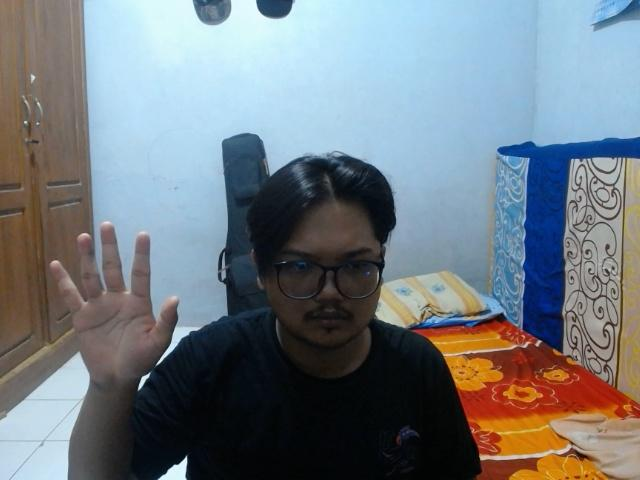Release: (46, 221, 183, 389)
